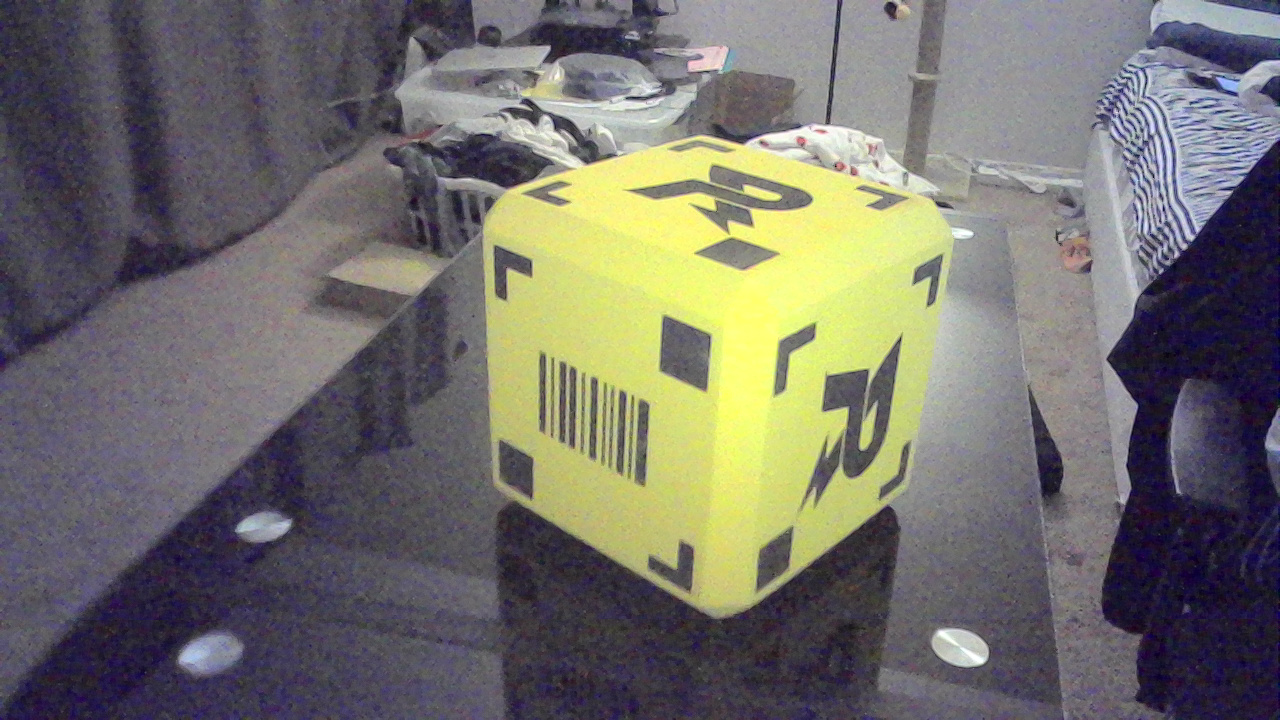Barcode: (524, 375, 691, 469)
R: (813, 352, 910, 496), (643, 169, 828, 231)
